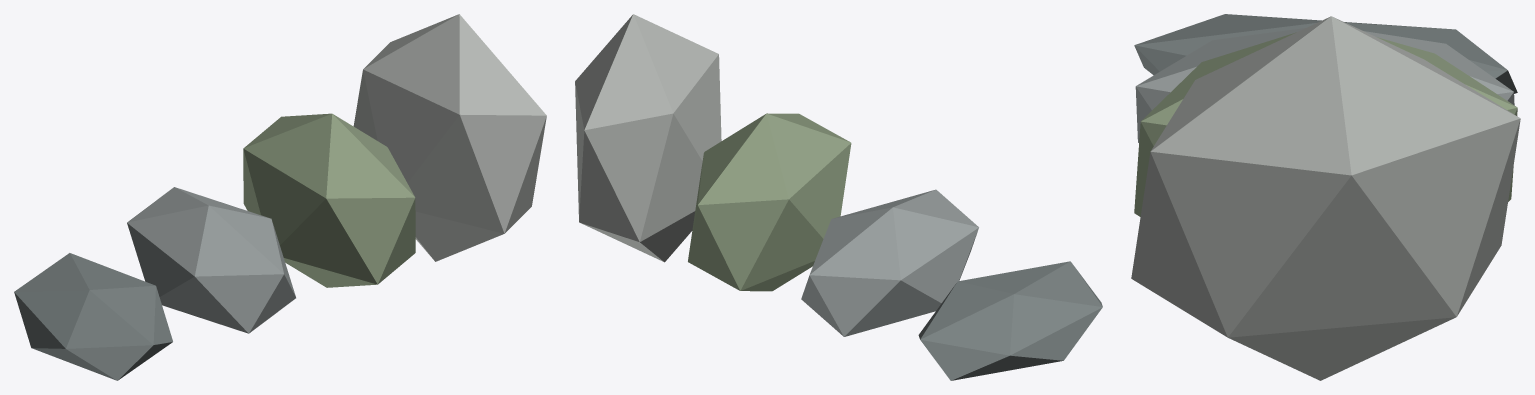
The model's file is terrain_transition_left_4x2x2.glb.
The picture shows the model from 3 angles, left to right: view 1: azimuth 30°, elevation 25°; view 2: azimuth 150°, elevation 25°; view 3: azimuth 270°, elevation 25°; orthographic projection. The views are drawn at different scales.
Visible parts, largest first — view 1: terrain_transition_left_04, terrain_transition_left_03, terrain_transition_left_02, terrain_transition_left_01; view 2: terrain_transition_left_04, terrain_transition_left_03, terrain_transition_left_02, terrain_transition_left_01; view 3: terrain_transition_left_04, terrain_transition_left_01, terrain_transition_left_02, terrain_transition_left_03.
Part boxes in pixels (x1,y1,x2,y2): terrain_transition_left_04: (353, 14, 546, 261); terrain_transition_left_03: (243, 113, 415, 287); terrain_transition_left_02: (127, 187, 295, 333); terrain_transition_left_01: (14, 253, 172, 380); terrain_transition_left_04: (575, 14, 721, 262); terrain_transition_left_03: (688, 113, 851, 291); terrain_transition_left_02: (801, 189, 978, 336); terrain_transition_left_01: (918, 261, 1102, 380); terrain_transition_left_04: (1131, 16, 1520, 380); terrain_transition_left_01: (1134, 14, 1517, 93); terrain_transition_left_02: (1135, 28, 1514, 142); terrain_transition_left_03: (1134, 32, 1517, 216).
Bounding box in the file's own units: 4.05 × 1.94 × 1.77.
